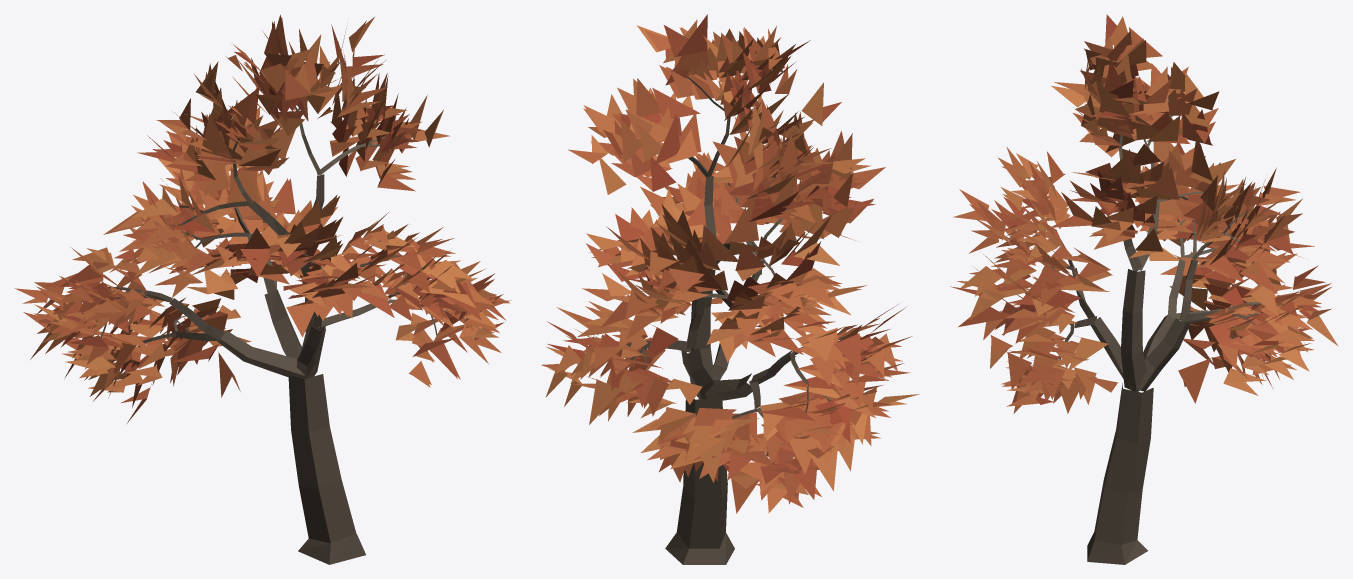
Rendered from hieda_maple_b.glb.
3 views of the same model, side by side, from view 1: azimuth 30°, elevation 25°; view 2: azimuth 150°, elevation 25°; view 3: azimuth 270°, elevation 25° (orthographic). The views are drawn at different scales.
Visible parts, largest first — view 1: hieda_maple_b; view 2: hieda_maple_b; view 3: hieda_maple_b.
Boxes of the visible parts, x1,y1,x2,y2 form: hieda_maple_b: [14, 14, 511, 564]; hieda_maple_b: [541, 14, 919, 564]; hieda_maple_b: [950, 14, 1338, 564].
Bounding box in the file's own units: 6.1 × 8.15 × 5.75.
